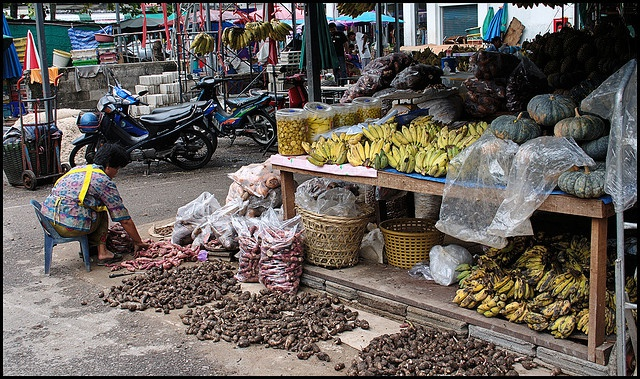non-vehicle: (67, 72, 212, 172), (187, 73, 278, 148), (248, 73, 308, 130)
